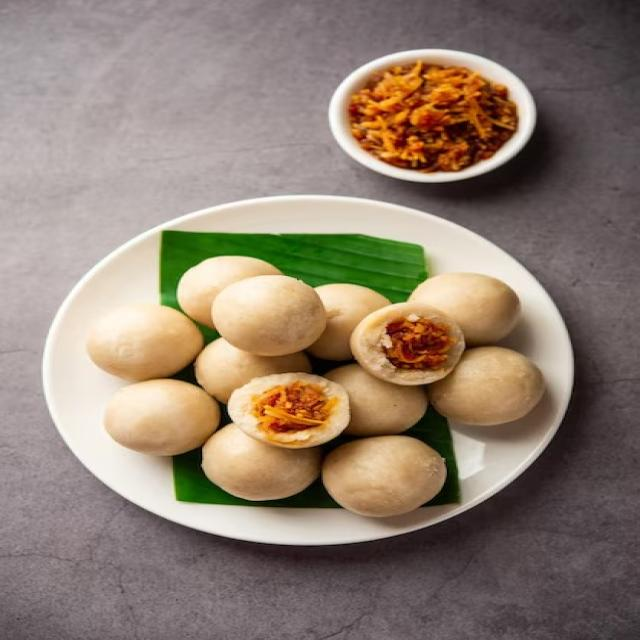poorna kolukattai: (27, 219, 589, 542)
